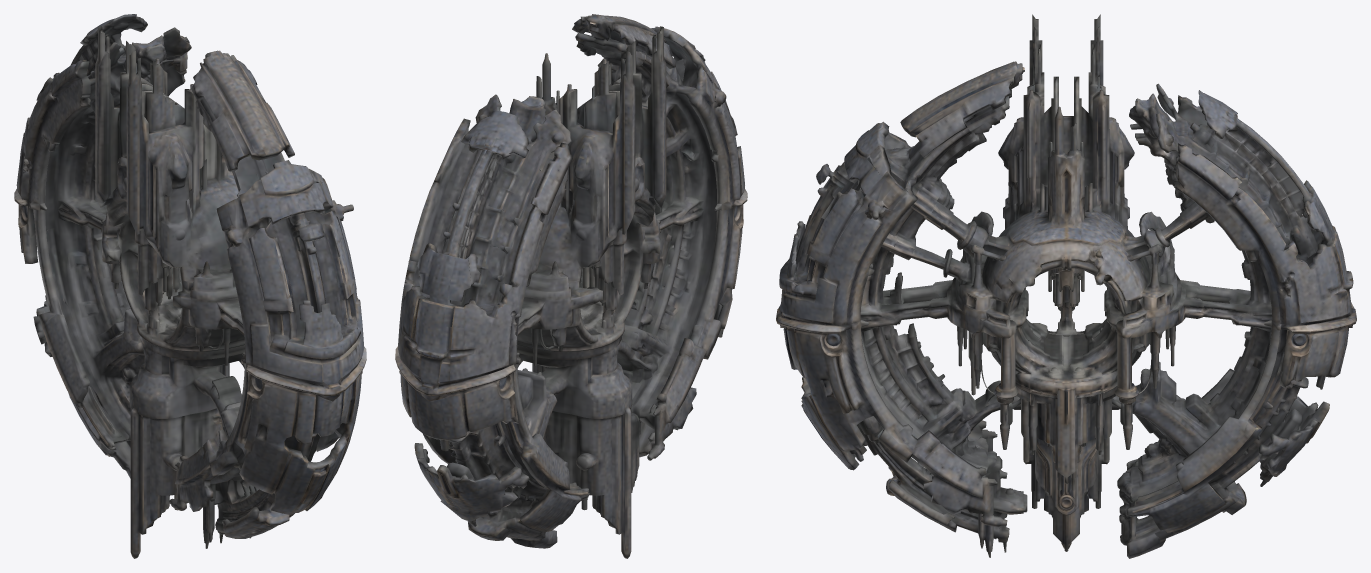
Rendered from monument_abandoned_space_wreckage.glb.
3 views of the same model, side by side, from view 1: azimuth 30°, elevation 25°; view 2: azimuth 150°, elevation 25°; view 3: azimuth 270°, elevation 25° (orthographic).
Visible parts, largest first — view 1: tripo_90b42426_8d3c_44dd_8225_4151a234e6ea; view 2: tripo_90b42426_8d3c_44dd_8225_4151a234e6ea; view 3: tripo_90b42426_8d3c_44dd_8225_4151a234e6ea.
Boxes of the visible parts, box(x1,y1,x2,y2) form: tripo_90b42426_8d3c_44dd_8225_4151a234e6ea: box(14, 14, 366, 558); tripo_90b42426_8d3c_44dd_8225_4151a234e6ea: box(395, 14, 747, 558); tripo_90b42426_8d3c_44dd_8225_4151a234e6ea: box(776, 14, 1356, 558).
Bounding box in the file's own units: 0.3286 × 0.9985 × 0.9995.
1 material, 1 textured.
